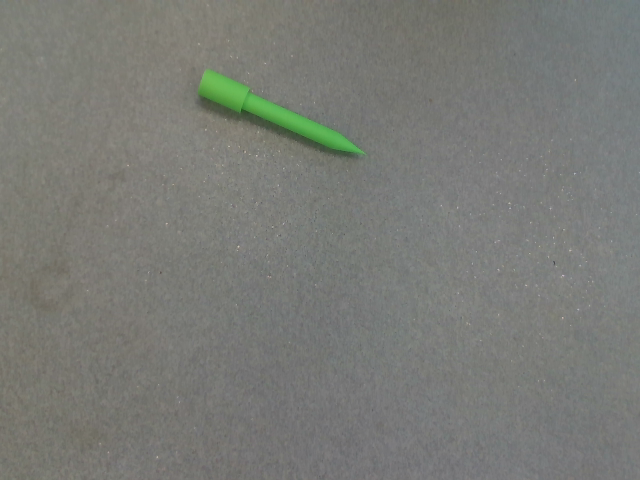Probe: (193, 64, 379, 166)
